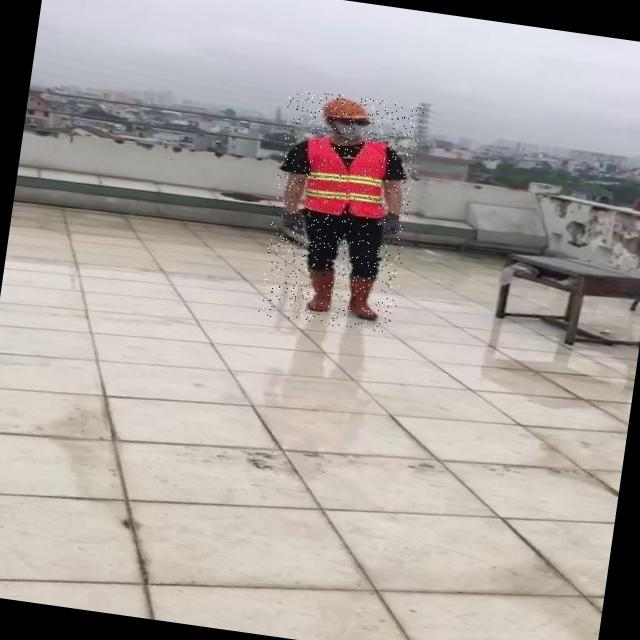boots: (344, 270, 383, 320), (302, 268, 334, 316)
gloves: (384, 212, 400, 235)
hard-hat: (323, 96, 371, 124)
person: (277, 96, 406, 320)
vest: (304, 135, 390, 217)
